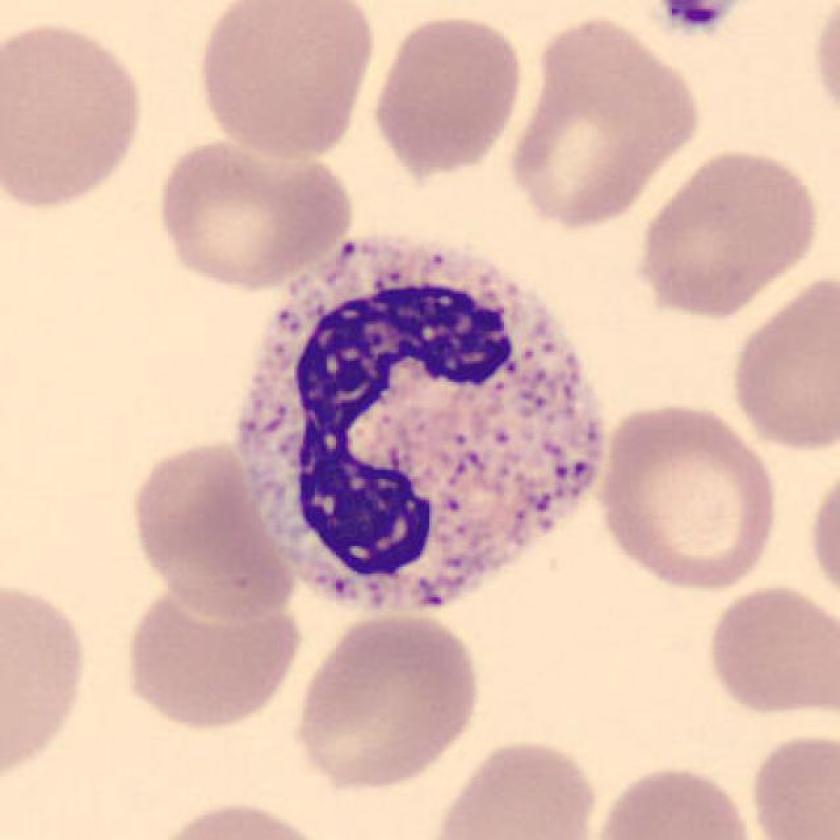neutrophil: (233, 241, 601, 606)
